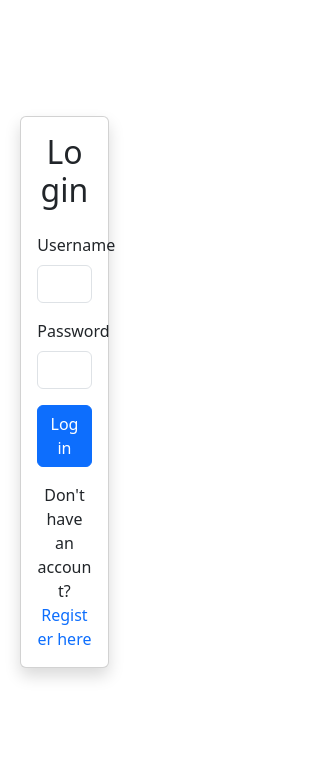
Test: Login Component › displays error message on login failure
// Fill out the form
In the field labelled "Username": (64, 284) [37, 265, 92, 303], type "testuser"
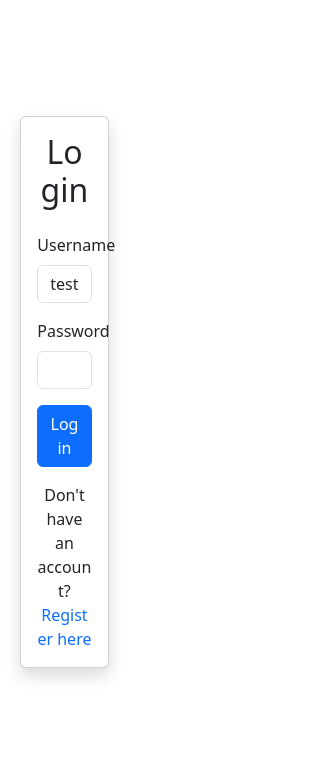
In the password field labelled "Password": (64, 370) [37, 351, 92, 389], type "wrongpassword"
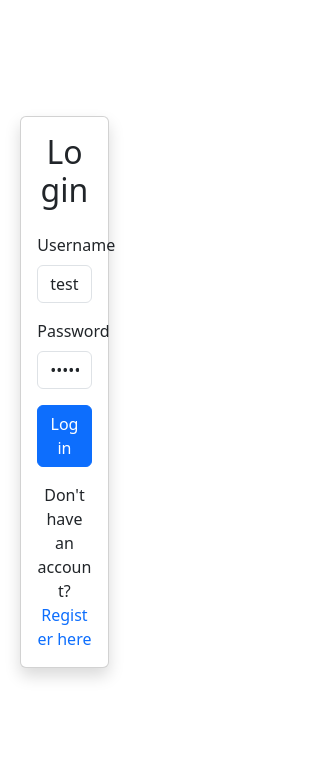
// Submit the form
Submit the form from the button "Login", box [37, 405, 92, 467]
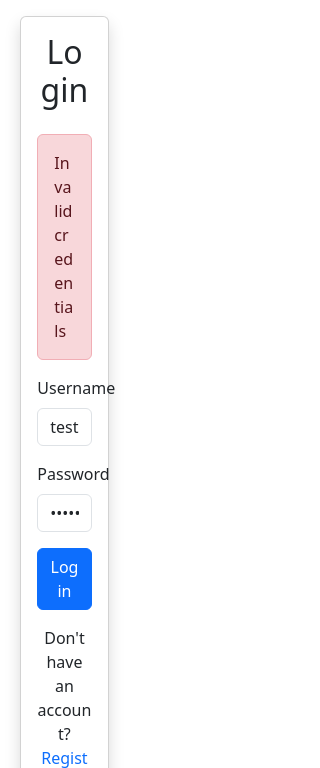
Check: the message "Invalid credentials" is shown, box [37, 134, 92, 360]
Check: the message reads "Invalid credentials", box [54, 152, 73, 342]
